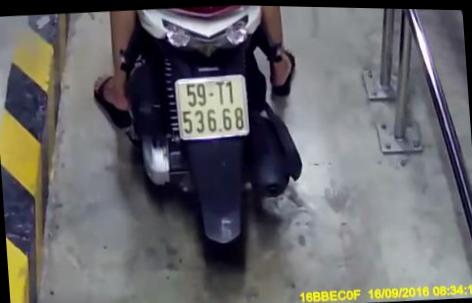LP: (172, 72, 251, 141)
